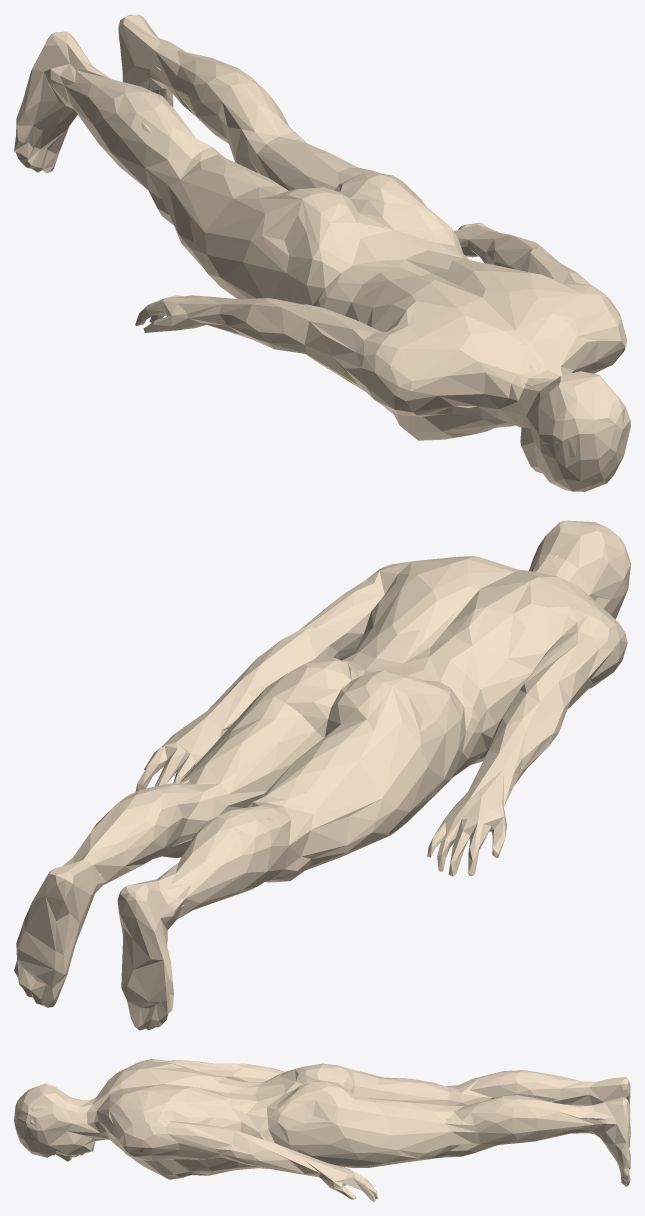
Rendered from body-diagram.glb.
The picture shows the model from 3 angles, top to bottom: view 1: azimuth 30°, elevation 25°; view 2: azimuth 150°, elevation 25°; view 3: azimuth 270°, elevation 25°; orthographic projection. The views are drawn at different scales.
Parts seen in each view (by area): view 1: skin; view 2: skin; view 3: skin.
Part boxes in pixels (box(x1,y1,x2,y2)): skin: box(14, 14, 630, 491); skin: box(14, 520, 630, 1030); skin: box(14, 1059, 630, 1201).
Bounding box in the file's own units: 657 × 285 × 1654.
